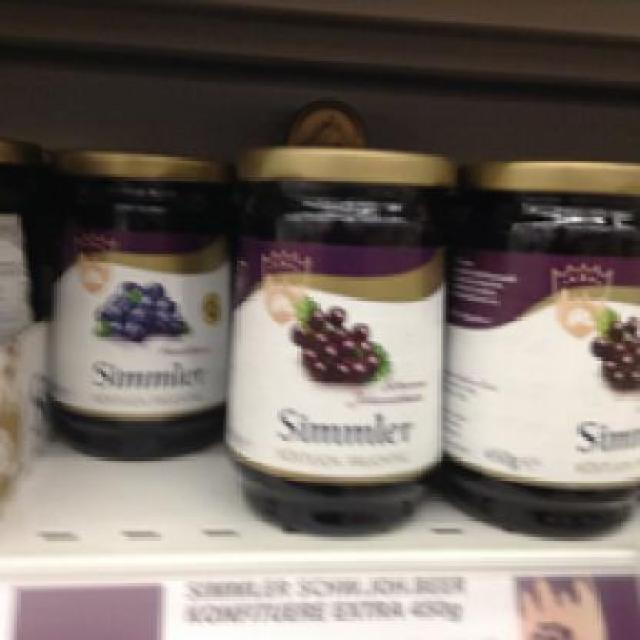Jam: (220, 143, 457, 532), (440, 154, 637, 540), (43, 146, 223, 460)
